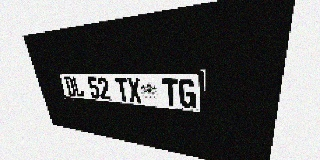2: (97, 77, 111, 100)
5: (87, 77, 101, 99)
D: (64, 76, 77, 97)
G: (178, 79, 196, 108)
L: (72, 77, 85, 97)
T: (162, 78, 179, 107), (115, 77, 130, 102)
X: (127, 78, 142, 103)
